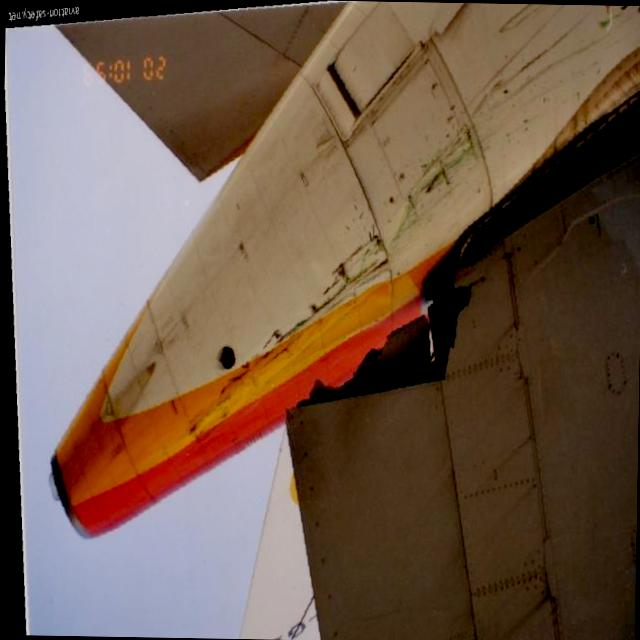crack: (296, 270, 490, 410)
